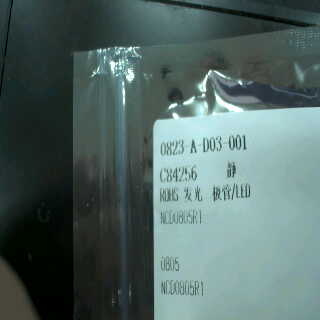LED: (182, 180, 256, 204)
